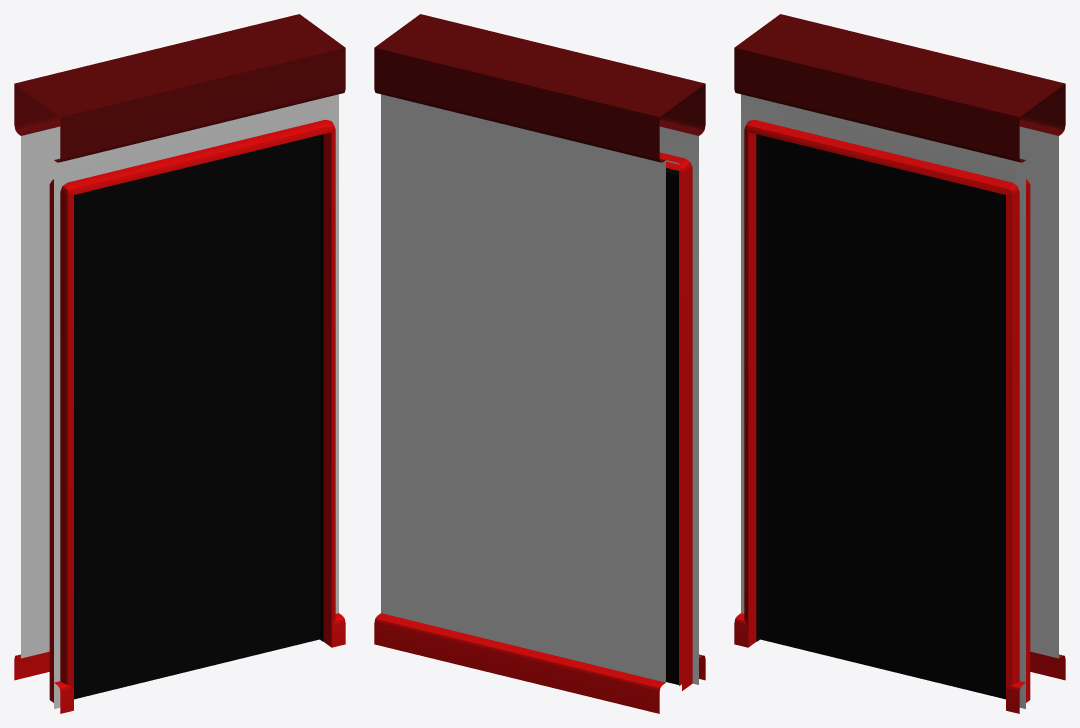
Rendered from SM_MurPorte.fbx.
3 views of the same model, side by side, from view 1: azimuth 30°, elevation 25°; view 2: azimuth 150°, elevation 25°; view 3: azimuth 330°, elevation 25° (orthographic).
Visible parts, largest first — view 1: MurPorte; view 2: MurPorte; view 3: MurPorte.
Boxes of the visible parts, box(x1,y1,x2,y2) form: MurPorte: box(14, 14, 345, 713); MurPorte: box(374, 14, 705, 713); MurPorte: box(734, 14, 1065, 713).
Size of the model in its own units: 100 by 200 by 27.92.
